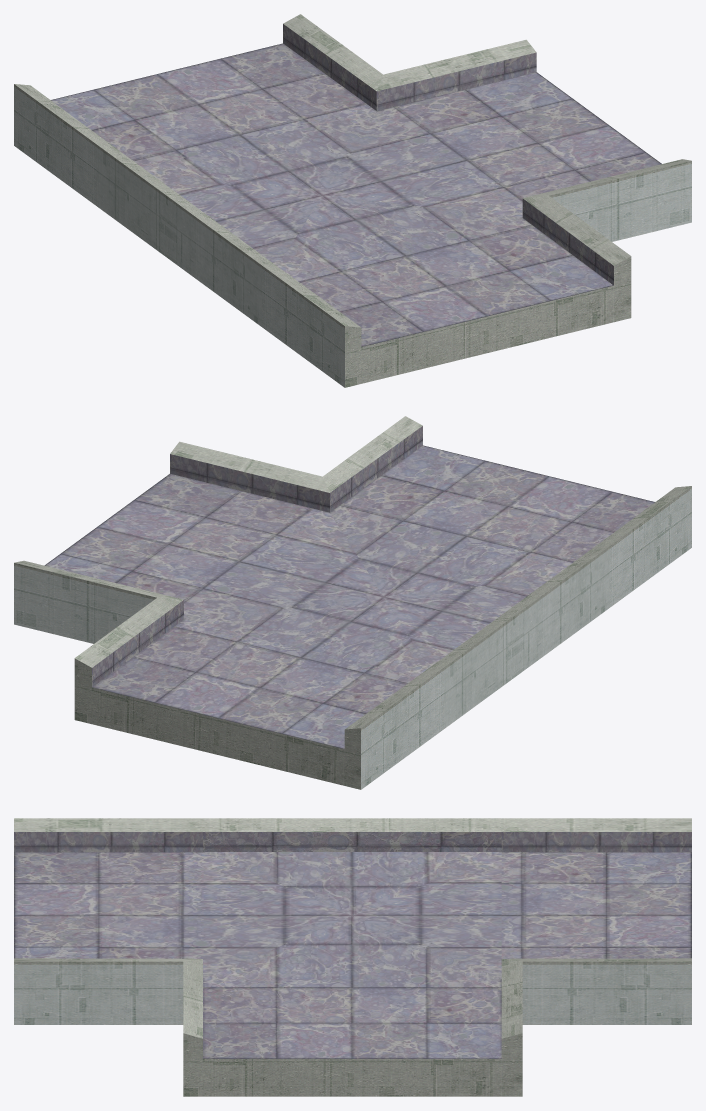
File: bes2_bldg_skyway_t.glb
3 views of the same model, one above another, from view 1: azimuth 30°, elevation 25°; view 2: azimuth 150°, elevation 25°; view 3: azimuth 270°, elevation 25° (orthographic). The views are drawn at different scales.
Parts seen in each view (by area): view 1: mesh_part1, mesh_part2; view 2: mesh_part1, mesh_part2; view 3: mesh_part1, mesh_part2.
Boxes of the visible parts, <box> form: mesh_part1: <box>51,24,661,346</box>; mesh_part2: <box>14,14,691,387</box>; mesh_part1: <box>44,426,654,748</box>; mesh_part2: <box>14,416,691,789</box>; mesh_part1: <box>14,832,691,1058</box>; mesh_part2: <box>14,818,691,1096</box>.
Size of the model in its own units: 12 by 1.65 by 16.
Materials: 2 (2 with a texture image).
